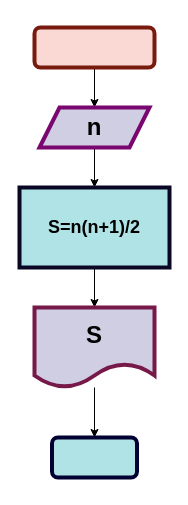
This 188x505 diagram has some shape labels left out. Each missing label, with the centre of its shape:
FIN: the point at 94,457
INICIO: the point at 94,47
